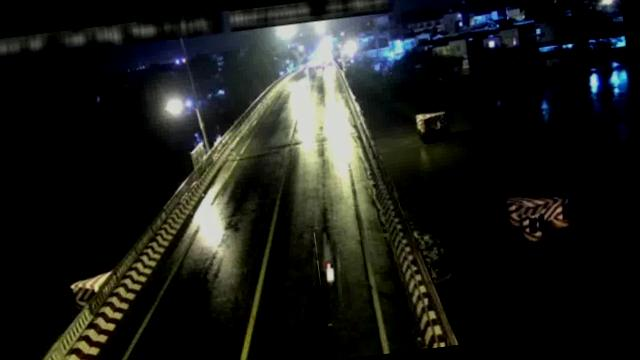Bike: (314, 229, 344, 286)
